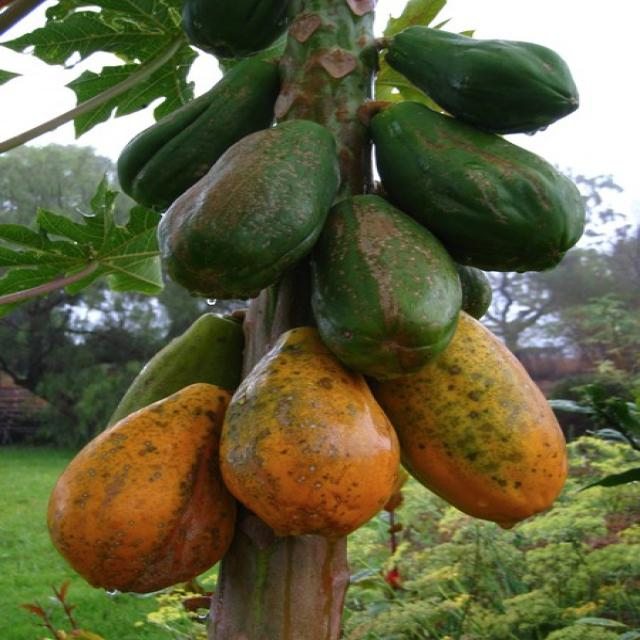Pepaya rippen: (209, 326, 408, 534), (43, 386, 223, 599), (400, 326, 583, 534)
Pepaya unrippen: (377, 100, 597, 274), (155, 122, 326, 296), (307, 193, 467, 371), (114, 53, 286, 193), (383, 18, 600, 120)
